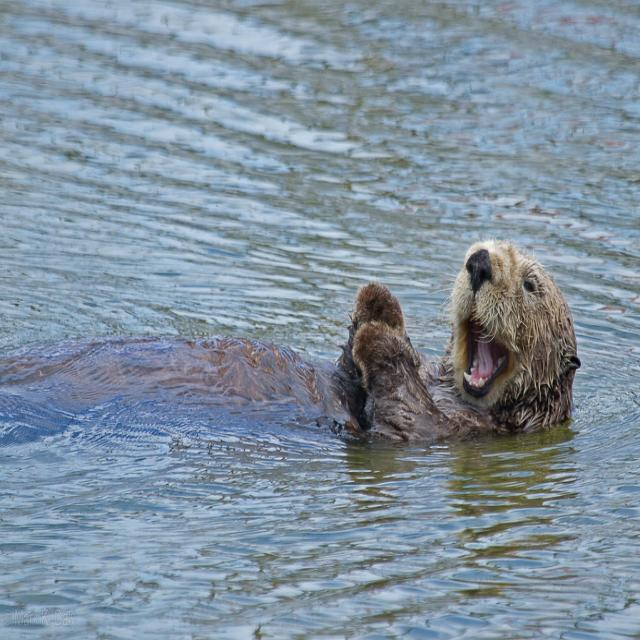otter: (348, 239, 580, 444)
